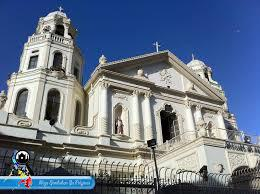quiapo_church_quiapo_manila: (4, 4, 252, 192)
